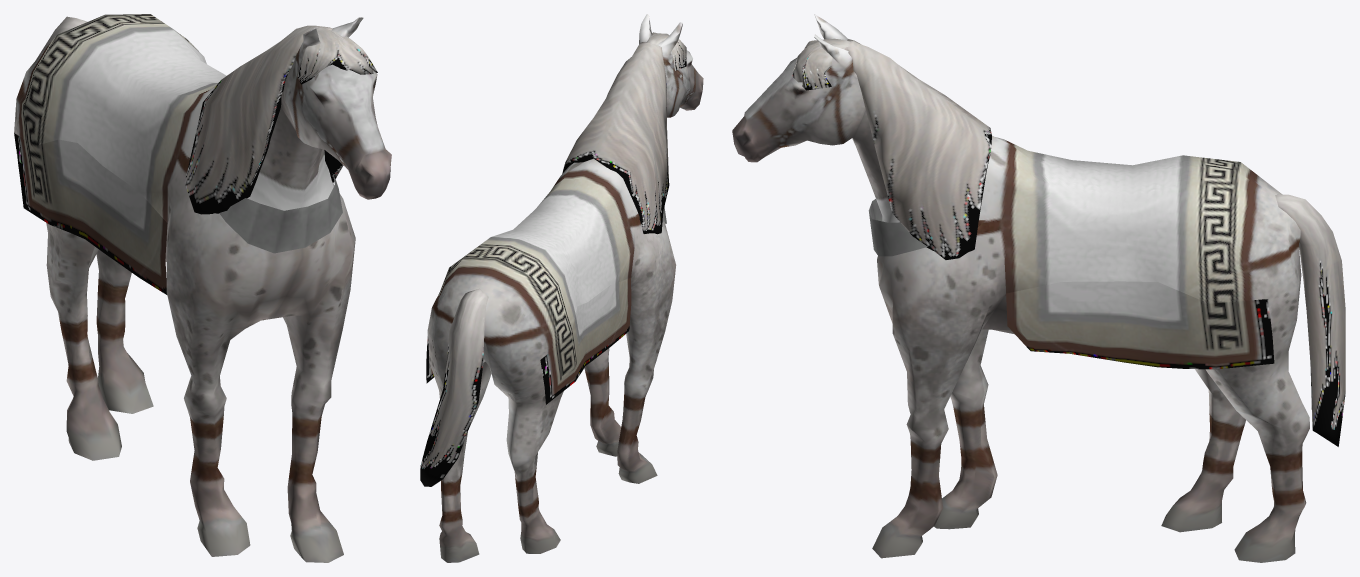
File: body-heavycavalry.glb
The picture shows the model from 3 angles, left to right: view 1: azimuth 30°, elevation 25°; view 2: azimuth 150°, elevation 25°; view 3: azimuth 270°, elevation 25°; orthographic projection. The views are drawn at different scales.
Size of the model in its own units: 0.7855 by 2.5 by 2.7.
1 material, 1 textured.
